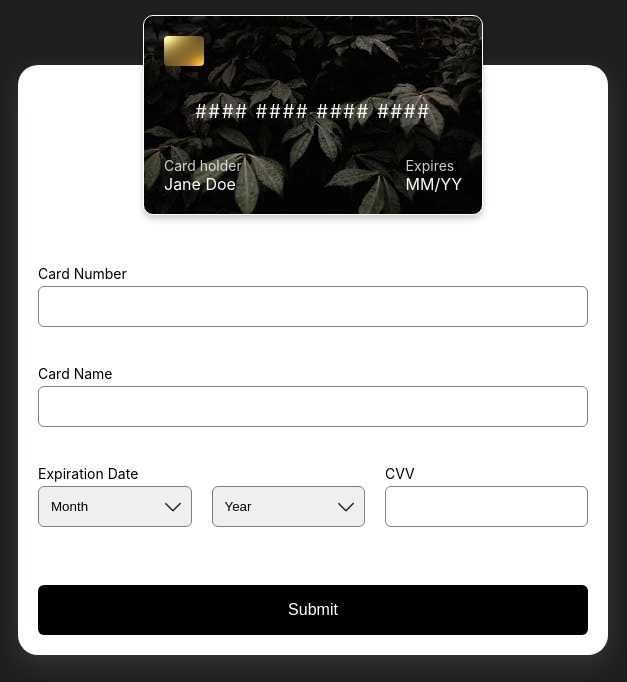
Test: E2E test that tests the form with data that will result in errors › should visit
The image size is (627, 682).
Type "1111 1111 1111 1111" into the field with test id "input-cardNumber" at {"x": 313, "y": 307}, box [38,286,588,327]
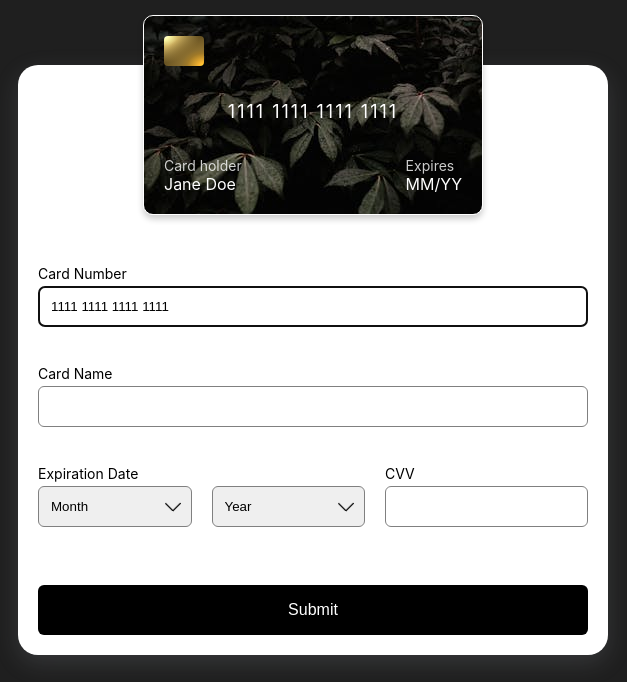
Type "Viktor Puke" into the field with test id "input-cardName" at {"x": 313, "y": 407}, box [38,386,588,427]
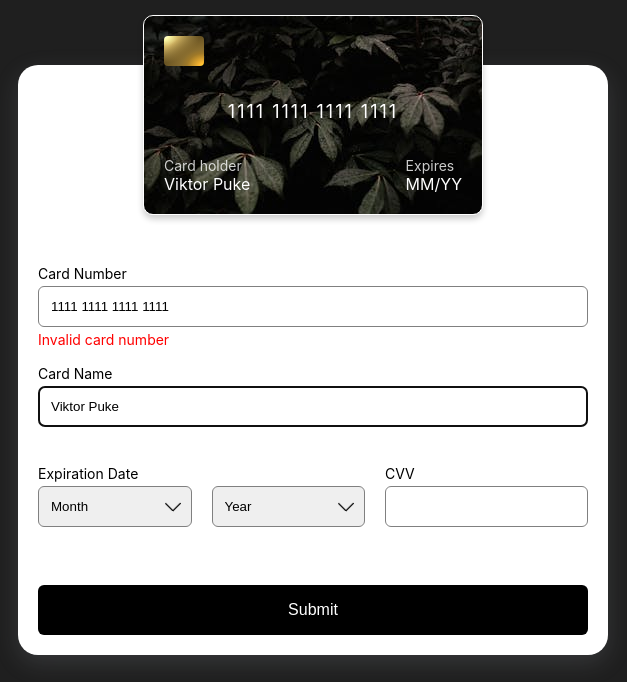
Select "03" in the dropdown with test id "select-cardMonth" at {"x": 115, "y": 507}, box [38,486,192,527]
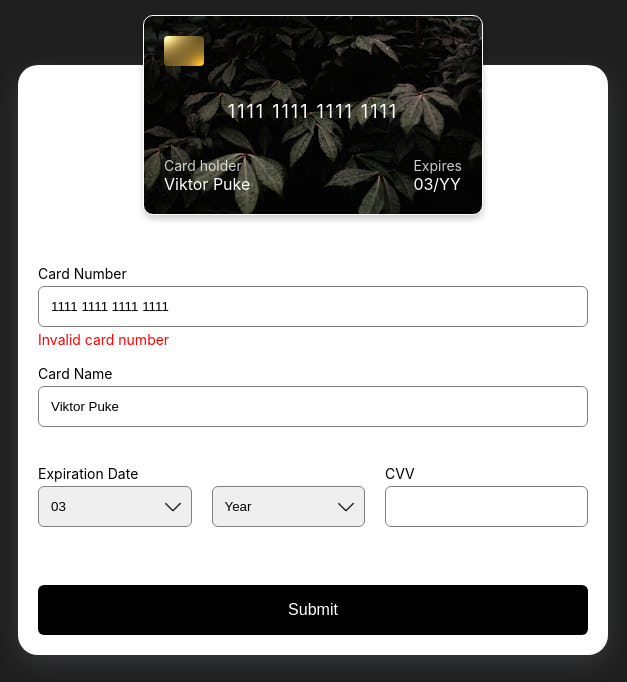
Select "2024" in the dropdown with test id "select-cardYear" at {"x": 289, "y": 507}, box [212,486,366,527]
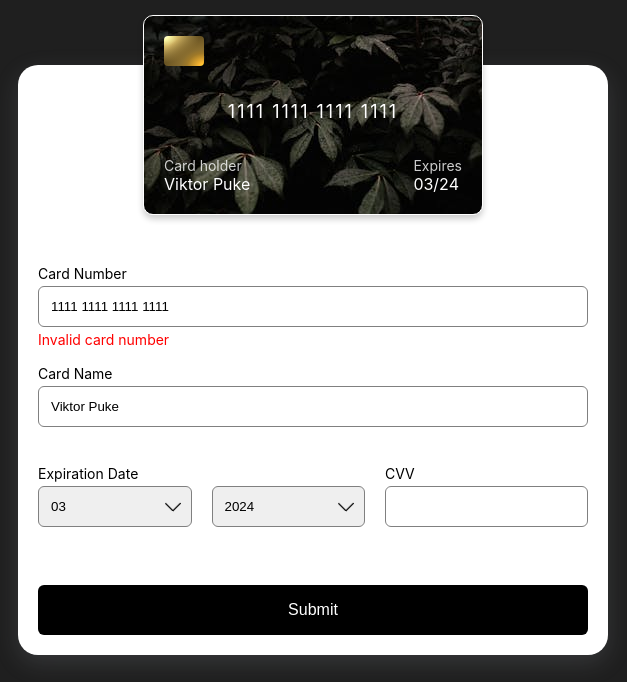
Type "13" into the field with test id "input-cardCVV" at {"x": 487, "y": 507}, box [385,486,588,527]
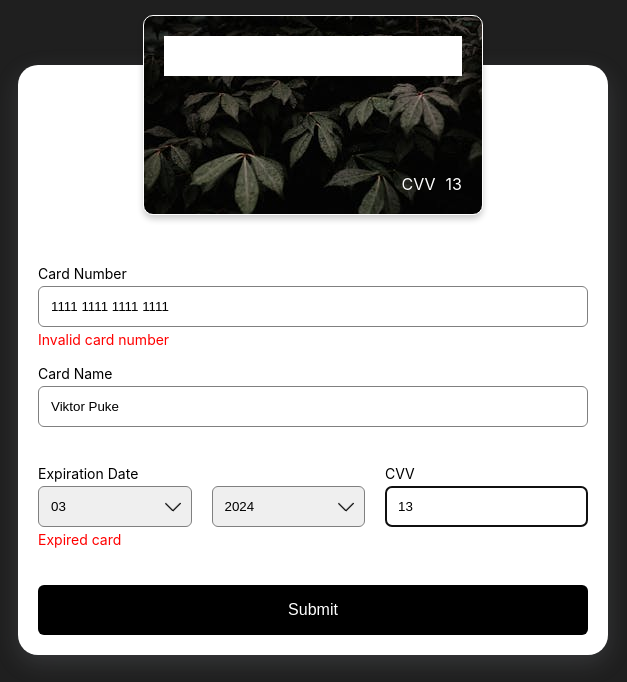
Click the button with test id "submit" at {"x": 313, "y": 610}, box [38,585,588,635]
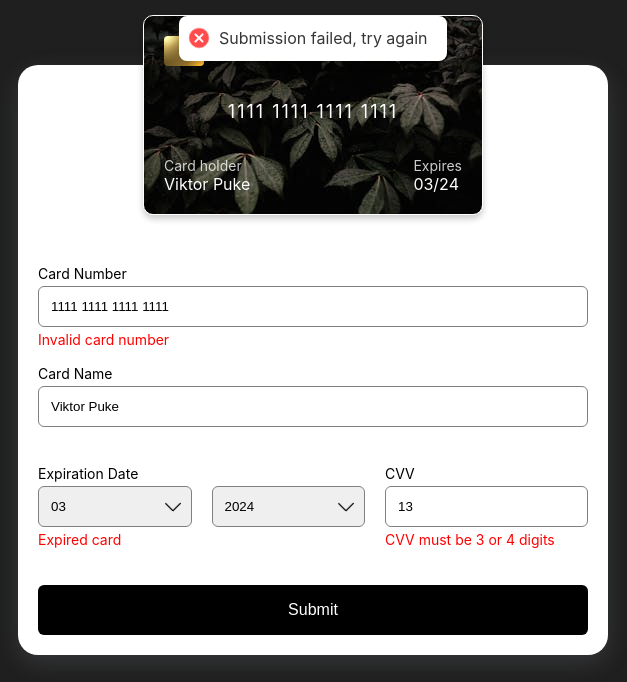
Check: the text with test id "error-cardNumber" reads "Invalid card number", box [38,331,169,348]
Check: the text with test id "error-cardMonth" reads "Expired card", box [38,531,121,548]
Check: the text with test id "error-cardCVV" reads "CVV must be 3 or 4 digits", box [385,531,555,548]
